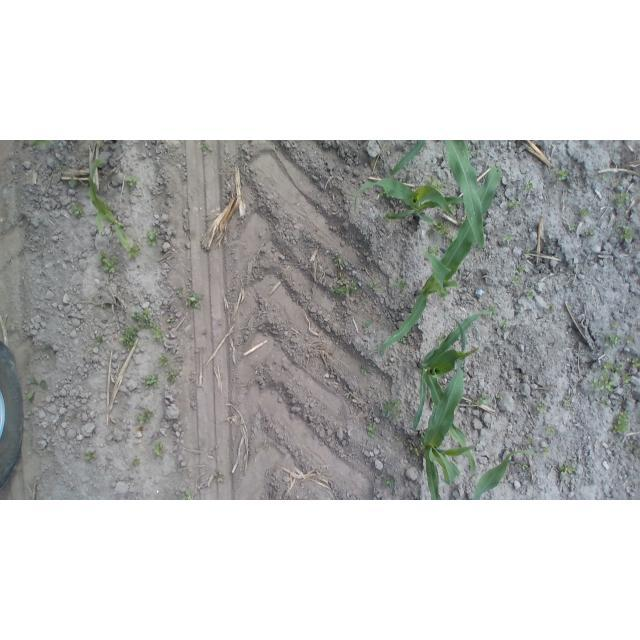Maize: (369, 166, 504, 357), (413, 307, 491, 477), (419, 359, 470, 500), (354, 175, 497, 225), (87, 158, 132, 249)
Weeds: (133, 308, 168, 344), (96, 253, 123, 280), (333, 280, 360, 300), (181, 291, 203, 313), (120, 327, 139, 352), (612, 415, 629, 441), (432, 219, 452, 241), (379, 402, 402, 421), (602, 337, 635, 350), (193, 140, 213, 160), (590, 380, 620, 393), (122, 174, 142, 192), (145, 229, 162, 249), (556, 163, 572, 184), (133, 408, 153, 424), (426, 177, 445, 192), (615, 191, 630, 210), (384, 475, 399, 494), (72, 203, 85, 224), (152, 444, 169, 460), (142, 372, 159, 388), (522, 176, 538, 193), (601, 359, 620, 373), (393, 276, 409, 292), (127, 245, 140, 264), (507, 197, 523, 211), (557, 463, 574, 476), (84, 450, 100, 463), (503, 231, 517, 244), (536, 402, 552, 413), (158, 356, 171, 369), (480, 394, 493, 407), (577, 206, 591, 218), (622, 227, 634, 240), (426, 243, 440, 254), (365, 423, 376, 437), (166, 371, 176, 386), (514, 264, 526, 276), (523, 248, 534, 261), (410, 444, 421, 456), (541, 444, 552, 455), (546, 424, 557, 435), (523, 436, 536, 445), (500, 320, 511, 330), (513, 275, 521, 288), (586, 226, 596, 236), (523, 288, 533, 298), (567, 224, 578, 233), (369, 280, 377, 291), (600, 398, 608, 408), (562, 396, 570, 406), (546, 304, 554, 313), (518, 463, 528, 470), (362, 320, 370, 328), (394, 436, 403, 441)
